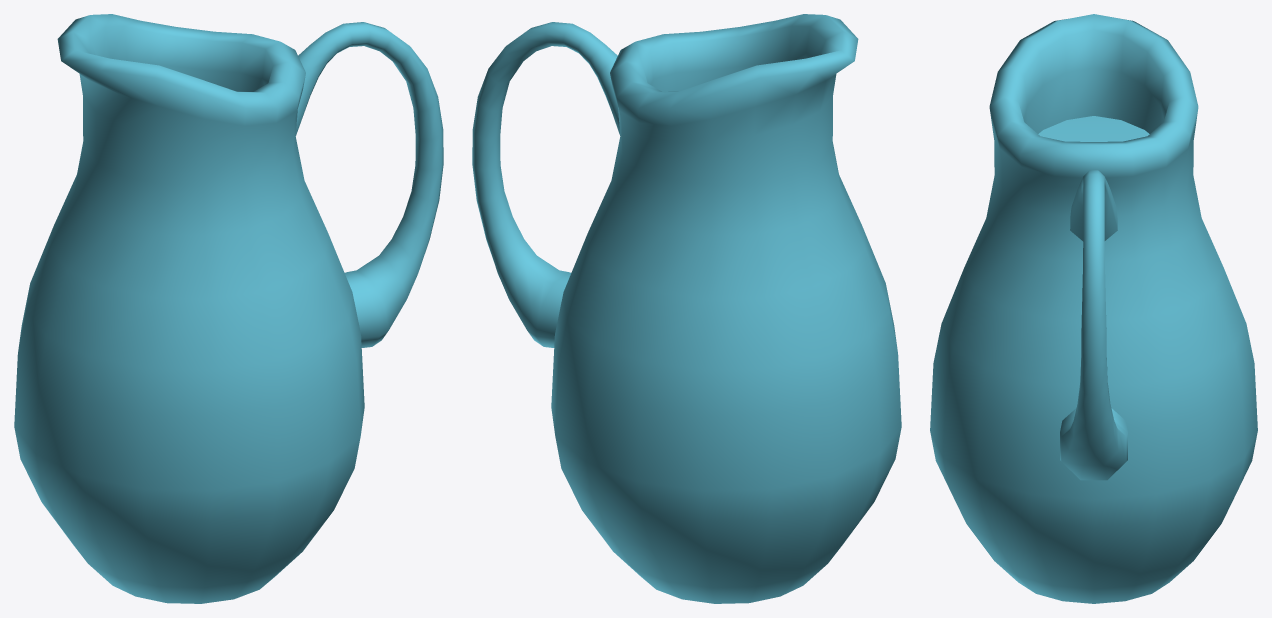
Rendered from SM_Waterpitcher.fbx.
3 views of the same model, side by side, from view 1: azimuth 30°, elevation 25°; view 2: azimuth 150°, elevation 25°; view 3: azimuth 270°, elevation 25° (orthographic). The views are drawn at different scales.
Parts seen in each view (by area): view 1: Pitcher; view 2: Pitcher; view 3: Pitcher, Pitcher_Liquid.
Part boxes in pixels (x1=…): Pitcher: x1=14, y1=14, x2=443, y2=603; Pitcher: x1=472, y1=14, x2=901, y2=603; Pitcher: x1=930, y1=14, x2=1257, y2=603; Pitcher_Liquid: x1=1038, y1=116, x2=1149, y2=141.
Bounding box in the file's own units: 23.97 × 31.28 × 18.18.
